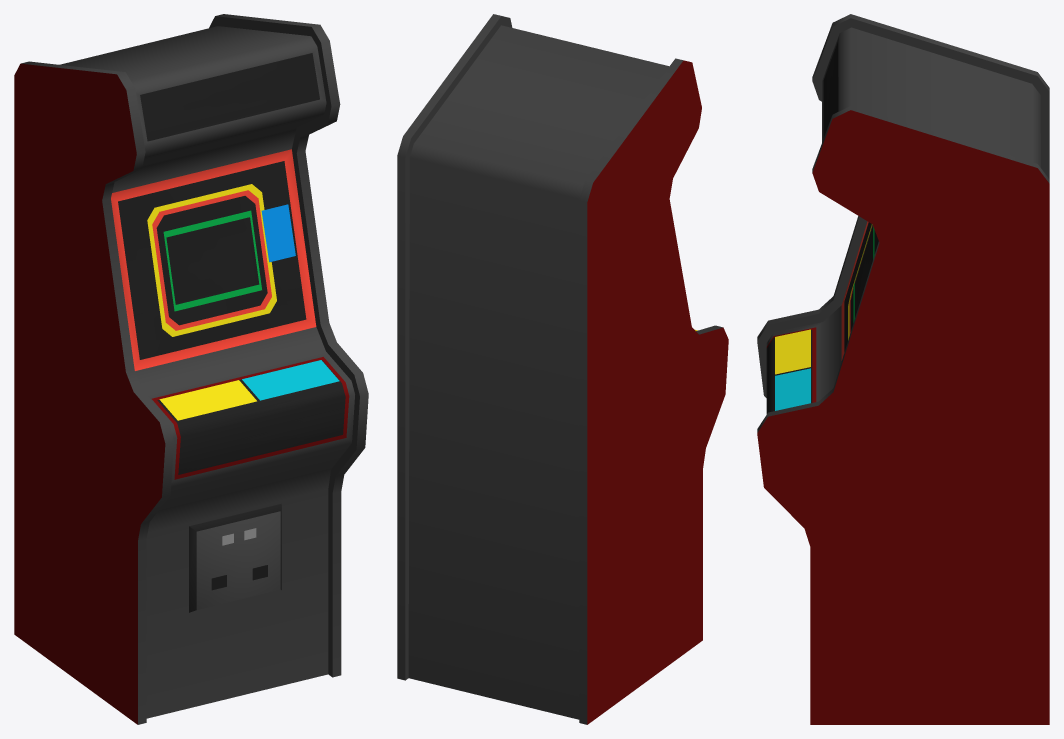
File: entertainment_003.glb
3 renders of one model, left to right at view 1: azimuth 30°, elevation 25°; view 2: azimuth 150°, elevation 25°; view 3: azimuth 270°, elevation 25°, orthographic. The views are drawn at different scales.
Visible parts, largest first — view 1: entertainment_003; view 2: entertainment_003; view 3: entertainment_003.
Boxes of the visible parts, x1,y1,x2,y2 form: entertainment_003: (14, 14, 368, 724); entertainment_003: (397, 14, 728, 724); entertainment_003: (757, 14, 1049, 724).
Bounding box in the file's own units: 0.6464 × 1.93 × 0.8323.
1 material, 1 textured.
